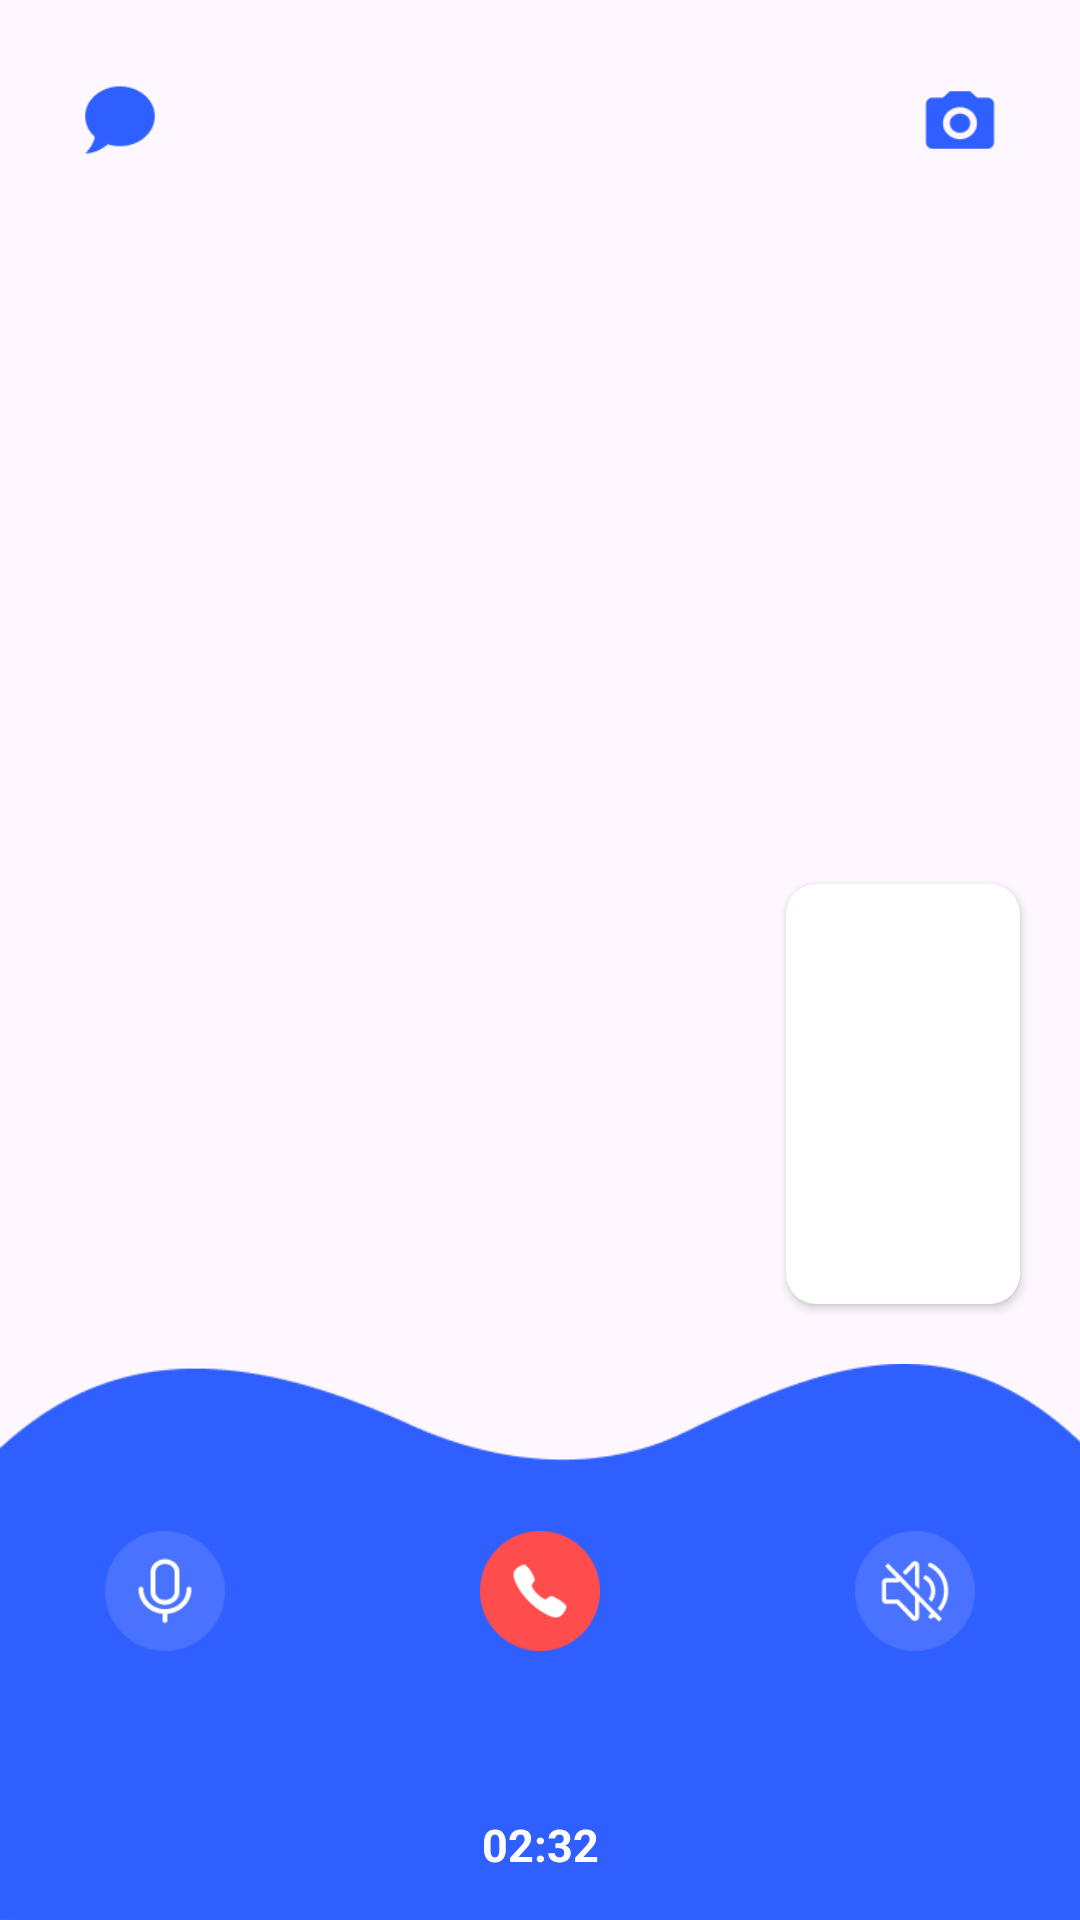

Icons on this 1080*1920 Android screen, each with the point to tap as (x=x, y=y):
backtochat: (x=120, y=120)
cameravideocall: (x=960, y=120)
dinamikoff: (x=915, y=1591)
otboy: (x=540, y=1591)
voicevideon: (x=165, y=1591)
